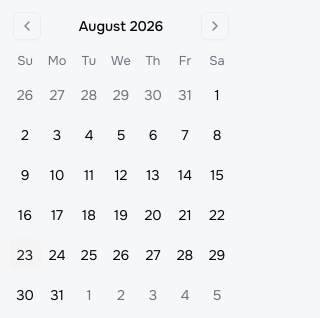
Test: Calendar › navigates to the next month via the built-in nav button
The image size is (320, 318).
Expected: the text "August 2026" is shown, x1=79 y1=16 x2=163 y2=36
Click the button named "next month". click: click(215, 26)
box: x1=201 y1=12 x2=229 y2=40
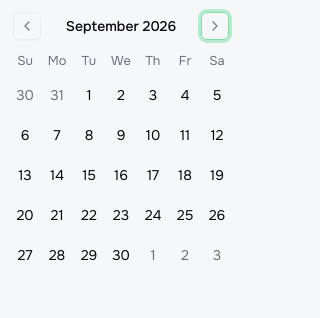
Expected: the text "September 2026" is shown, x1=66 y1=16 x2=176 y2=36
